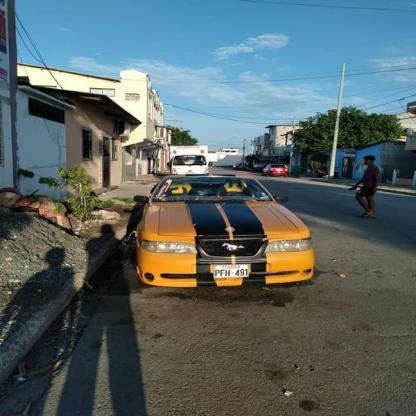Placa: (211, 264, 254, 280)
